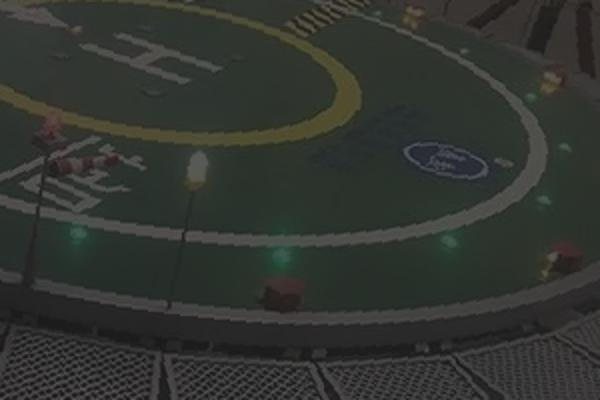Apron: (1, 1, 374, 153)
